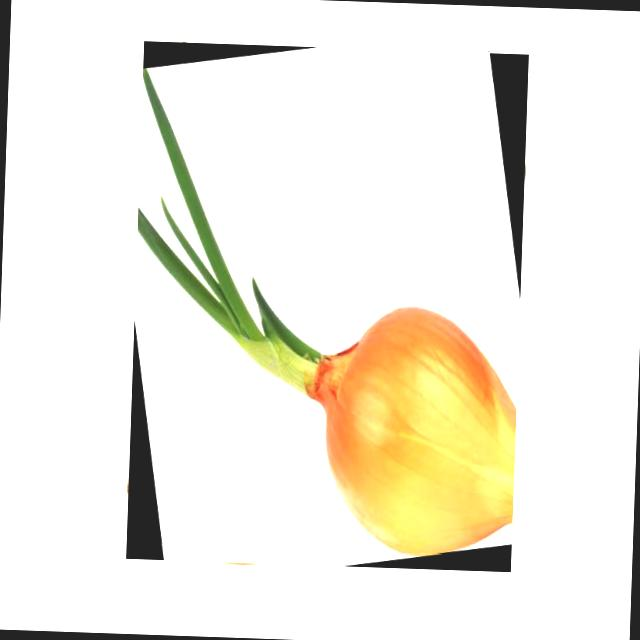sprouting: (137, 69, 516, 553)
